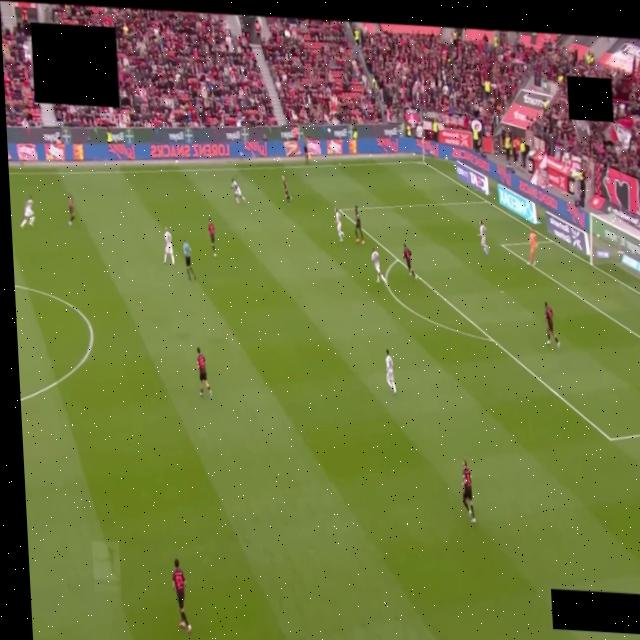player: (172, 559, 190, 632), (462, 460, 475, 523), (196, 347, 211, 396), (544, 302, 558, 348), (371, 249, 384, 283), (385, 350, 395, 394), (354, 205, 364, 244), (403, 244, 414, 278), (21, 196, 33, 227), (163, 227, 173, 264), (231, 179, 245, 204), (479, 220, 488, 255), (528, 229, 536, 265), (208, 218, 215, 257), (335, 209, 343, 242), (281, 176, 290, 205), (68, 195, 74, 226)
referee: (182, 240, 195, 280)
